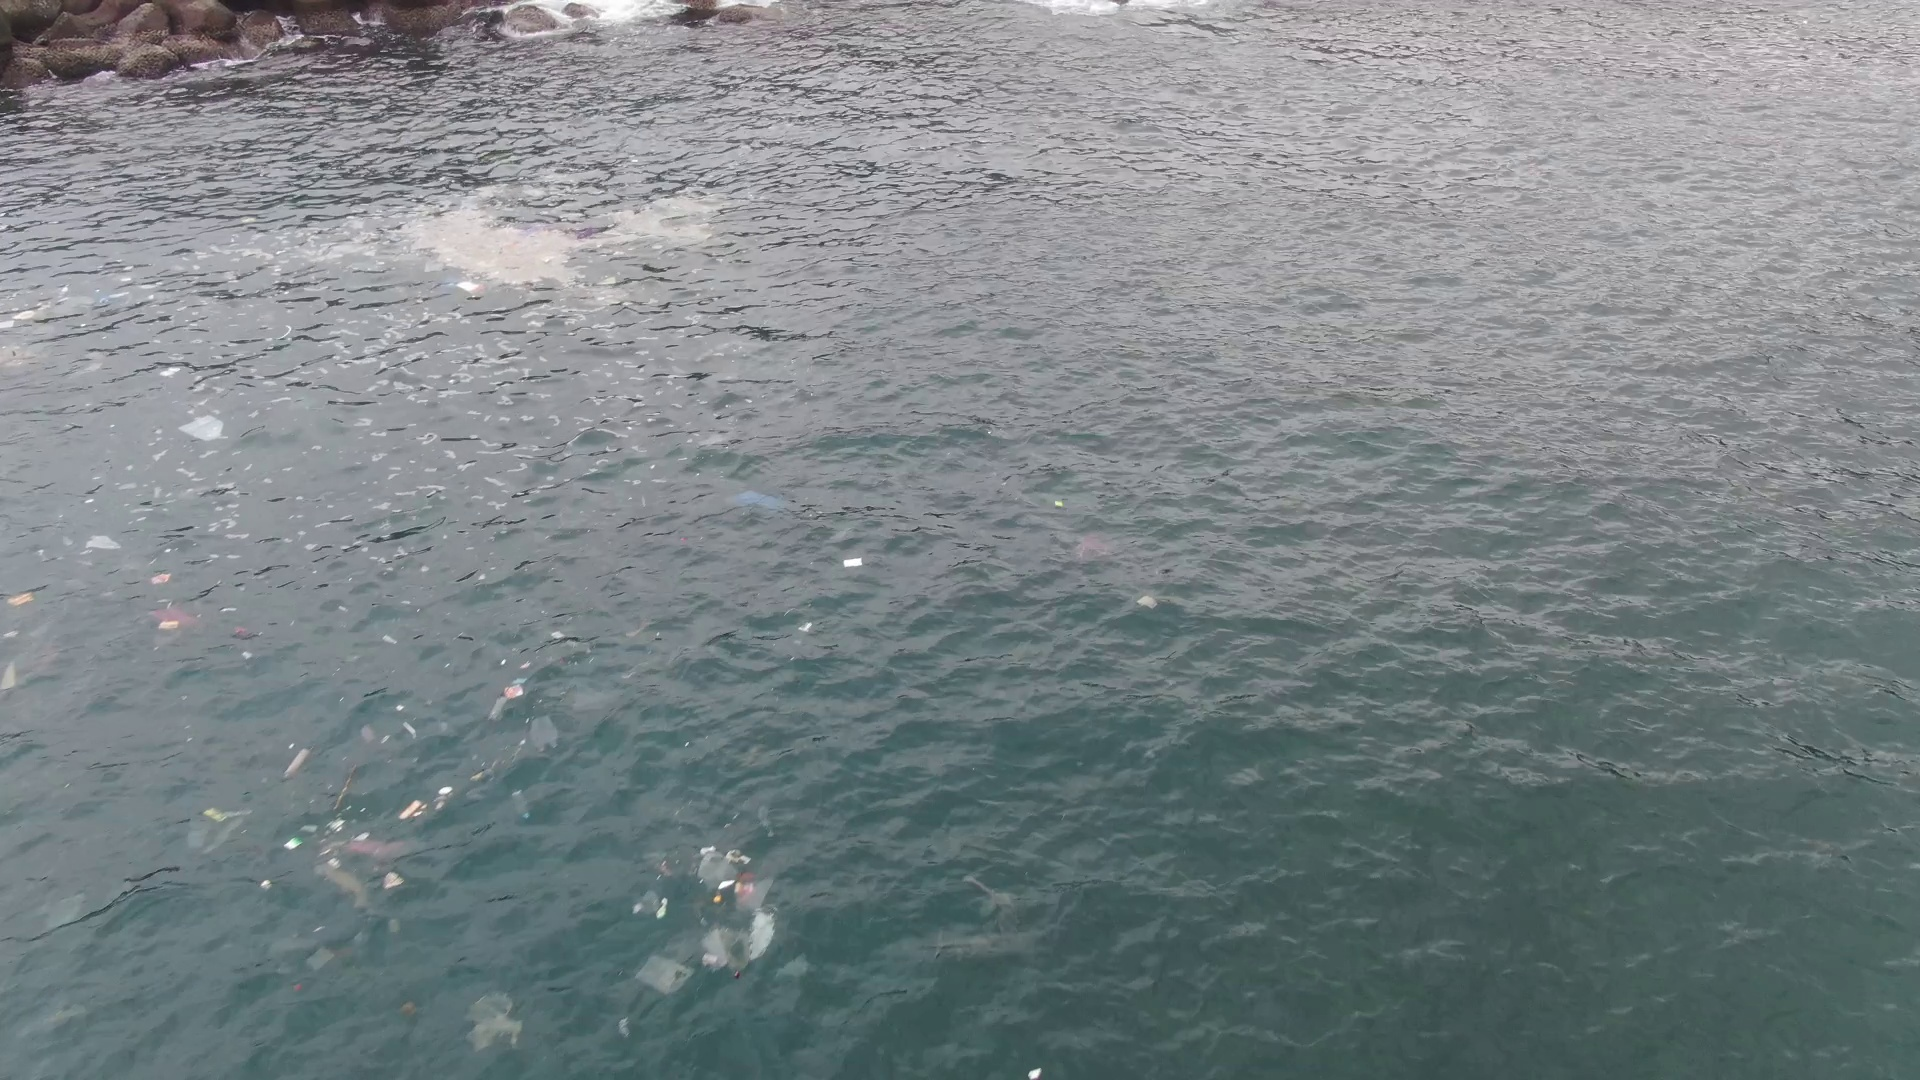bottle: (94, 287, 111, 305)
garbage: (637, 851, 778, 997), (282, 822, 433, 922), (495, 223, 607, 258), (465, 997, 530, 1047), (189, 806, 251, 845), (150, 597, 196, 645), (177, 413, 228, 448), (3, 302, 34, 347), (737, 487, 785, 512), (498, 674, 524, 717), (450, 268, 480, 301), (86, 531, 123, 554), (1, 654, 18, 698), (228, 621, 255, 642), (839, 553, 862, 574), (291, 746, 305, 775), (1137, 593, 1154, 611)
